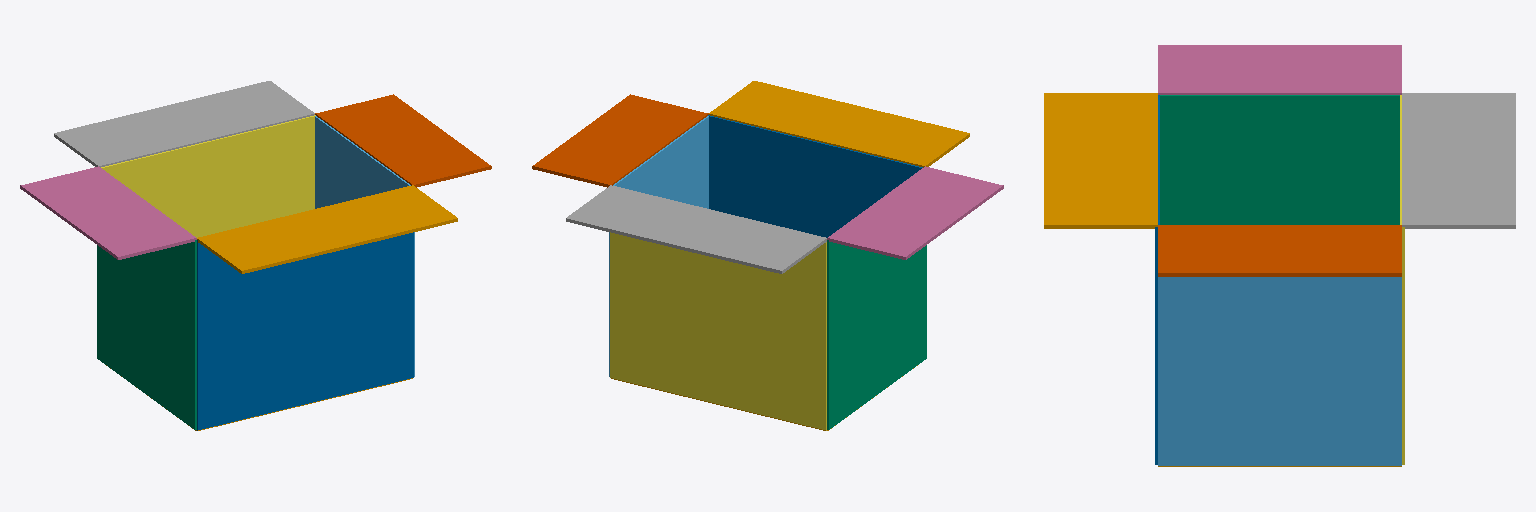
robot.urdf — cardboard_box:
<?xml version="1.0"?>
<robot
  name="cardboard_box">
  <link name="box_bottom">
    <visual>
      <geometry>
        <box size="0.345 0.27 0.005"/>
      </geometry>
    </visual>
    <collision>
      <geometry>
        <box size="0.345 0.27 0.005"/>
      </geometry>
      <origin xyz="0 0 0"/>
    </collision>
    <inertial>
      <mass value="0.2"/>
      <inertia ixx="0.01" ixy="0.0" ixz="0.0" iyy="0.01" iyz="0.0" izz="0.01"/>

      <origin xyz="0 0 0"/>
    </inertial>
  </link>


  <link name="box_wall_px">
    <visual>
      <geometry>
        <box size="0.005 0.27 0.29"/>
      </geometry>
    </visual>
    <collision>
      <geometry>
        <box size="0.005 0.27 0.29"/>
      </geometry>
      <origin xyz="0 0 0"/>
    </collision>
    <inertial>
      <mass value="0.1"/>
      <inertia ixx="0.01" ixy="0.0" ixz="0.0" iyy="0.01" iyz="0.0" izz="0.01"/>
      <origin xyz="0 0 0"/>
    </inertial>
  </link>
  <joint name="box_bottom_to_wall_px" type="fixed">
    <parent link="box_bottom"/>
    <child link="box_wall_px"/>
    <origin rpy="0 0 0" xyz="0.1725 0 0.145"/>
  </joint>

  <link name="box_wall_nx">
    <visual>
      <geometry>
        <box size="0.005 0.27 0.29"/>
      </geometry>
    </visual>
    <collision>
      <geometry>
        <box size="0.005 0.27 0.29"/>
      </geometry>
      <origin xyz="0 0 0"/>
    </collision>
    <inertial>
      <mass value="0.1"/>
      <inertia ixx="0.01" ixy="0.0" ixz="0.0" iyy="0.01" iyz="0.0" izz="0.01"/>
      <origin xyz="0 0 0"/>
    </inertial>
  </link>
  <joint name="box_bottom_to_wall_nx" type="fixed">
    <parent link="box_bottom"/>
    <child link="box_wall_nx"/>
    <origin rpy="0 0 0" xyz="-0.1725 0 0.145"/>
  </joint>

  <link name="box_wall_py">
    <visual>
      <geometry>
        <box size="0.345 0.005 0.29"/>
      </geometry>
    </visual>
    <collision>
      <geometry>
        <box size="0.345 0.005 0.29"/>
      </geometry>
      <origin xyz="0 0 0"/>
    </collision>
    <inertial>
      <mass value="0.1"/>
      <inertia ixx="0.01" ixy="0.0" ixz="0.0" iyy="0.01" iyz="0.0" izz="0.01"/>
      <origin xyz="0 0 0"/>
    </inertial>
  </link>
  <joint name="box_bottom_to_wall_py" type="fixed">
    <parent link="box_bottom"/>
    <child link="box_wall_py"/>
    <origin rpy="0 0 0" xyz="0 0.135 0.145"/>
  </joint>

  <link name="box_wall_ny">
    <visual>
      <geometry>
        <box size="0.345 0.005 0.29"/>
      </geometry>
    </visual>
    <collision>
      <geometry>
        <box size="0.345 0.005 0.29"/>
      </geometry>
      <origin xyz="0 0 0"/>
    </collision>
    <inertial>
      <mass value="0.1"/>
      <inertia ixx="0.01" ixy="0.0" ixz="0.0" iyy="0.01" iyz="0.0" izz="0.01"/>
      <origin xyz="0 0 0"/>
    </inertial>
  </link>
  <joint name="box_bottom_to_wall_ny" type="fixed">
    <parent link="box_bottom"/>
    <child link="box_wall_ny"/>
    <origin rpy="0 0 0" xyz="0 -0.135 0.145"/>
  </joint>

  <link name="box_lid_px">
    <visual>
      <geometry>
        <box size="0.125 0.27 0.005"/>
      </geometry>
      <origin xyz="0.0625 0 0"/>
    </visual>
    <collision>
      <geometry>
        <box size="0.125 0.27 0.005"/>
      </geometry>
      <origin xyz="0.0625 0 0"/>
    </collision>
    <inertial>
      <mass value="0.1"/>
      <inertia ixx="0.01" ixy="0.0" ixz="0.0" iyy="0.01" iyz="0.0" izz="0.01"/>
      <origin xyz="0.0625 0 0"/>
    </inertial>
  </link>
  <joint name="box_wall_px_to_box_lid_px" type="revolute">
    <parent link="box_wall_px"/>
    <child link="box_lid_px"/>
    <origin rpy="0 0 0" xyz="0 0 0.145"/>
    <axis xyz="0 1 0"/>
    <limit lower="-4.71" upper="1.57079632679" effort="1000" velocity="-1"/>
    <dynamics damping="0.00" friction="0.0"/>
  </joint>

  <link name="box_lid_nx">
    <visual>
      <geometry>
        <box size="0.125 0.27 0.005"/>
      </geometry>
      <origin xyz="-0.0625 0 0"/>
    </visual>
    <collision>
      <geometry>
        <box size="0.125 0.27 0.005"/>
      </geometry>
      <origin xyz="-0.0625 0 0"/>
    </collision>
    <inertial>
      <mass value="0.1"/>
      <inertia ixx="0.01" ixy="0.0" ixz="0.0" iyy="0.01" iyz="0.0" izz="0.01"/>
      <origin xyz="-0.0625 0 0"/>
    </inertial>
  </link>
  <joint name="box_wall_nx_to_box_lid_nx" type="revolute">
    <parent link="box_wall_nx"/>
    <child link="box_lid_nx"/>
    <origin rpy="0 0 0" xyz="0 0 0.145"/>
    <axis xyz="0 -1 0"/>
    <limit lower="-4.71" upper="1.57079632679" effort="1000" velocity="-1"/>
    <dynamics damping="0.00" friction="0.0"/>
  </joint>

  <link name="box_lid_py">
    <visual>
      <geometry>
        <box size="0.345 0.125 0.005"/>
      </geometry>
      <origin xyz="0 0.0625 0"/>
    </visual>
    <collision>
      <geometry>
        <box size="0.345 0.125 0.005"/>
      </geometry>
      <origin xyz="0 0.0625 0"/>
    </collision>
    <inertial>
      <mass value="0.1"/>
      <inertia ixx="0.01" ixy="0.0" ixz="0.0" iyy="0.01" iyz="0.0" izz="0.01"/>
      <origin xyz="0 0.0625 0"/>
    </inertial>
  </link>
  <joint name="box_wall_py_to_box_lid_py" type="revolute">
    <parent link="box_wall_py"/>
    <child link="box_lid_py"/>
    <origin rpy="0 0 0" xyz="0 0 0.145"/>
    <axis xyz="-1 0 0"/>
    <limit lower="-4.71" upper="1.57079632679" effort="1000" velocity="-1"/>
    <dynamics damping="0.00" friction="0.0"/>
  </joint>

  <link name="box_lid_ny">
    <visual>
      <geometry>
        <box size="0.345 0.125 0.005"/>
      </geometry>
      <origin xyz="0 -0.0625 0"/>
    </visual>
    <collision>
      <geometry>
        <box size="0.345 0.125 0.005"/>
      </geometry>
      <origin xyz="0 -0.0625 0"/>
    </collision>
    <inertial>
      <mass value="0.1"/>
      <inertia ixx="0.01" ixy="0.0" ixz="0.0" iyy="0.01" iyz="0.0" izz="0.01"/>
      <origin xyz="0 -0.0625 0"/>
    </inertial>
  </link>
  <joint name="box_wall_ny_to_box_lid_ny" type="revolute">
    <parent link="box_wall_ny"/>
    <child link="box_lid_ny"/>
    <origin rpy="0 0 0" xyz="0 0 0.145"/>
    <axis xyz="1 0 0"/>
    <limit lower="-4.71" upper="1.57079632679" effort="1000" velocity="-1"/>
    <dynamics damping="0.00" friction="0.0"/>
  </joint>

</robot>


  

--- Render facts (derived) ---
The picture shows the robot from 3 angles, left to right: view 1: azimuth 30°, elevation 25°; view 2: azimuth 150°, elevation 25°; view 3: azimuth 270°, elevation 25°; orthographic projection.
Robot: cardboard_box — 9 links, 8 joints (4 revolute, 4 fixed); root link box_bottom; default pose: every joint at zero.
Visible links, largest first — view 1: box_wall_ny, box_wall_py, box_wall_nx, box_lid_ny, box_lid_py, box_lid_nx, box_lid_px, box_wall_px; view 2: box_wall_py, box_wall_ny, box_wall_nx, box_lid_py, box_lid_ny, box_lid_nx, box_lid_px, box_wall_px; view 3: box_wall_px, box_wall_nx, box_lid_py, box_lid_ny, box_lid_px, box_lid_nx, box_wall_py, box_wall_ny.
Boxes of the visible links, x1=… form: box_wall_ny: x1=197, y1=232, x2=413, y2=430; box_wall_py: x1=101, y1=115, x2=315, y2=237; box_wall_nx: x1=97, y1=240, x2=196, y2=429; box_lid_ny: x1=197, y1=185, x2=457, y2=273; box_lid_py: x1=54, y1=81, x2=314, y2=167; box_lid_nx: x1=20, y1=166, x2=196, y2=259; box_lid_px: x1=315, y1=94, x2=491, y2=187; box_wall_px: x1=315, y1=116, x2=414, y2=376; box_wall_py: x1=610, y1=232, x2=826, y2=430; box_wall_ny: x1=708, y1=115, x2=922, y2=237; box_wall_nx: x1=827, y1=240, x2=926, y2=429; box_lid_py: x1=566, y1=185, x2=826, y2=273; box_lid_ny: x1=709, y1=81, x2=969, y2=167; box_lid_nx: x1=827, y1=166, x2=1003, y2=259; box_lid_px: x1=532, y1=94, x2=708, y2=187; box_wall_px: x1=609, y1=116, x2=708, y2=376; box_wall_px: x1=1158, y1=277, x2=1401, y2=465; box_wall_nx: x1=1160, y1=95, x2=1399, y2=224; box_lid_py: x1=1402, y1=93, x2=1515, y2=228; box_lid_ny: x1=1044, y1=93, x2=1157, y2=228; box_lid_px: x1=1158, y1=225, x2=1401, y2=276; box_lid_nx: x1=1158, y1=45, x2=1401, y2=94; box_wall_py: x1=1400, y1=95, x2=1404, y2=464; box_wall_ny: x1=1155, y1=95, x2=1159, y2=464.
Bounding box of the posed robot: 0.595 × 0.52 × 0.295 m (x, y, z).
Geometry: primitives only (box / cylinder / sphere), no mesh files.